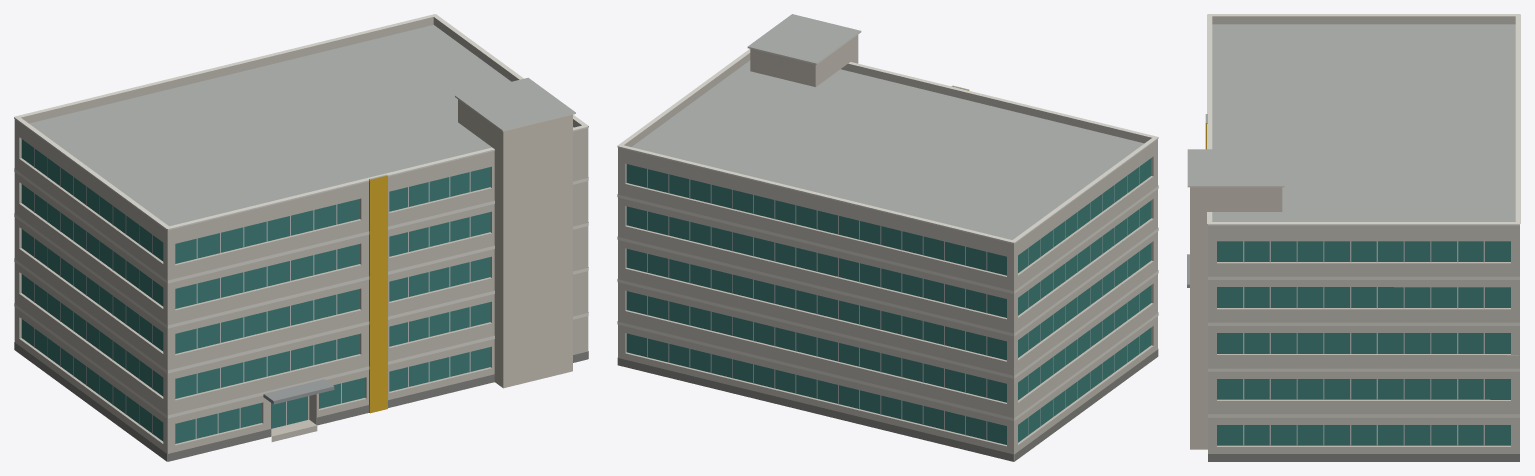
The picture shows the model from 3 angles, left to right: view 1: azimuth 30°, elevation 25°; view 2: azimuth 150°, elevation 25°; view 3: azimuth 270°, elevation 25°; orthographic projection. The views are drawn at different scales.
Visible parts, largest first — view 1: facility-1436367115__wall, facility-1436367115__roof, facility-1436367115__glass, facility-1436367115__tower, facility-1436367115__trim, facility-1436367115__parapet, facility-1436367115__yellow, facility-1436367115__base, facility-1436367115__frame, facility-1436367115__canopy, facility-1436367115__entranceThreshold_0; view 2: facility-1436367115__wall, facility-1436367115__roof, facility-1436367115__glass, facility-1436367115__trim, facility-1436367115__parapet, facility-1436367115__base, facility-1436367115__frame, facility-1436367115__tower; view 3: facility-1436367115__roof, facility-1436367115__wall, facility-1436367115__glass, facility-1436367115__trim, facility-1436367115__tower, facility-1436367115__parapet, facility-1436367115__base, facility-1436367115__frame.
Part boxes in pixels (x1,y1,x2,y2): facility-1436367115__wall: (14,125,588,461); facility-1436367115__roof: (29,25,575,461); facility-1436367115__glass: (21,139,490,443); facility-1436367115__tower: (458,99,572,388); facility-1436367115__trim: (14,14,588,418); facility-1436367115__parapet: (14,17,588,236); facility-1436367115__yellow: (369,175,387,413); facility-1436367115__base: (14,342,588,461); facility-1436367115__frame: (34,148,470,438); facility-1436367115__canopy: (263,379,334,404); facility-1436367115__entranceThreshold_0: (271,420,317,441); facility-1436367115__wall: (618,145,1157,461); facility-1436367115__roof: (631,14,1144,239); facility-1436367115__glass: (626,158,1151,444); facility-1436367115__trim: (617,31,1158,420); facility-1436367115__parapet: (618,53,1157,249); facility-1436367115__base: (617,349,1158,461); facility-1436367115__frame: (647,167,1139,440); facility-1436367115__tower: (750,35,858,87); facility-1436367115__roof: (1187,24,1516,355); facility-1436367115__wall: (1208,232,1519,453); facility-1436367115__glass: (1217,241,1510,445); facility-1436367115__trim: (1187,14,1520,417); facility-1436367115__tower: (1190,187,1282,449); facility-1436367115__parapet: (1208,16,1519,231); facility-1436367115__base: (1208,454,1519,461); facility-1436367115__frame: (1243,241,1484,445).
Bounding box in the file's own units: 33.38 × 20 × 22.4.
